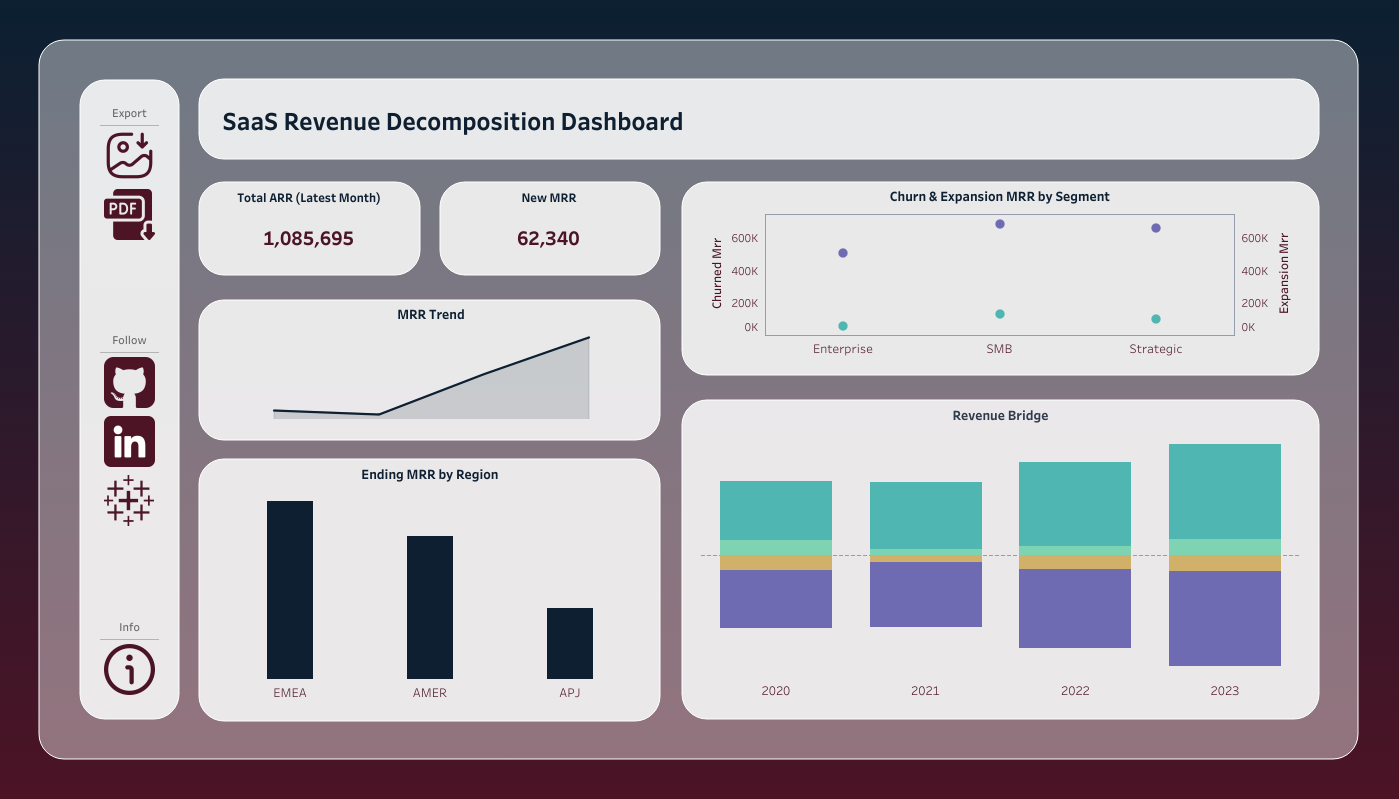

This screenshot's page, from the dashboard's own definition file:
{"tool":"tableau","page":{"name":"Dashboard","canvas":[1400,800],"ordinal":0},"visuals":[{"type":"image","param":"Image/PB-background.png","box":[0,0,1400,800]},{"type":"worksheet","title":"Layout","mark":"Automatic","box":[0,0,1400,800]},{"type":"blank","box":[197,76,1124,201]},{"type":"text","box":[100,100,59,25]},{"type":"text","box":[220,100,727,40]},{"type":"blank","box":[100,125,59,1]},{"type":"dashboard-object","box":[100,126,59,59]},{"type":"worksheet","title":"Churn vs Expansion by Segment","mark":"Circle","rows":["churned_mrr","expansion_mrr"],"cols":["segment"],"box":[700,180,600,178]},{"type":"worksheet","title":"ARR KPI","mark":"Text","box":[198,182,222,78]},{"type":"worksheet","title":"New MRR KPI","mark":"Text","box":[459,182,180,78]},{"type":"dashboard-object","box":[100,185,59,59]},{"type":"blank","box":[100,244,59,83.5]},{"type":"text","box":[197,277,1124,243]},{"type":"worksheet","title":"MRR Trend","mark":"Area","rows":["ending_mrr","ending_mrr"],"cols":["order_month"],"box":[221,298,420,121]},{"type":"text","box":[100,327.5,59,25]},{"type":"blank","box":[100,352.5,59,1]},{"type":"image","param":"Image/github.png","box":[100,353.5,59,59]},{"type":"worksheet","title":"Revenue Bridge","mark":"Bar","cols":["order_month"],"box":[701,399,599,300]},{"type":"image","param":"Image/linkedin.png","box":[100,412.5,59,59]},{"type":"worksheet","title":"MRR by Region","mark":"Automatic","rows":["ending_mrr"],"cols":["region"],"box":[220,458,420,243]},{"type":"image","param":"Image/tableau.png","box":[100,471.5,59,59]},{"type":"blank","box":[197,520,1124,201]},{"type":"blank","box":[100,530.5,59,83.5]},{"type":"text","box":[100,614,59,25]},{"type":"blank","box":[100,639,59,1]},{"type":"dashboard-object","box":[100,640,59,59]}]}

Visuals, with their boxes in screenshot pixels (x1, y1, x2, y2), scaled from the page's 1400x800 canvas onto the 1399x799 screenshot:
image: left=0, top=0, right=1398, bottom=798
"Layout" worksheet: left=0, top=0, right=1398, bottom=798
blank: left=197, top=76, right=1320, bottom=277
text: left=100, top=100, right=159, bottom=125
text: left=220, top=100, right=946, bottom=140
blank: left=100, top=125, right=159, bottom=126
dashboard-object: left=100, top=126, right=159, bottom=185
"Churn vs Expansion by Segment" worksheet (Circle marks): left=700, top=180, right=1299, bottom=358
"ARR KPI" worksheet (Text marks): left=198, top=182, right=420, bottom=260
"New MRR KPI" worksheet (Text marks): left=459, top=182, right=639, bottom=260
dashboard-object: left=100, top=185, right=159, bottom=244
blank: left=100, top=244, right=159, bottom=327
text: left=197, top=277, right=1320, bottom=519
"MRR Trend" worksheet (Area marks): left=221, top=298, right=641, bottom=418
text: left=100, top=327, right=159, bottom=352
blank: left=100, top=352, right=159, bottom=353
image: left=100, top=353, right=159, bottom=412
"Revenue Bridge" worksheet (Bar marks): left=700, top=399, right=1299, bottom=698
image: left=100, top=412, right=159, bottom=471
"MRR by Region" worksheet: left=220, top=457, right=640, bottom=700
image: left=100, top=471, right=159, bottom=530
blank: left=197, top=519, right=1320, bottom=720
blank: left=100, top=530, right=159, bottom=613
text: left=100, top=613, right=159, bottom=638
blank: left=100, top=638, right=159, bottom=639
dashboard-object: left=100, top=639, right=159, bottom=698
